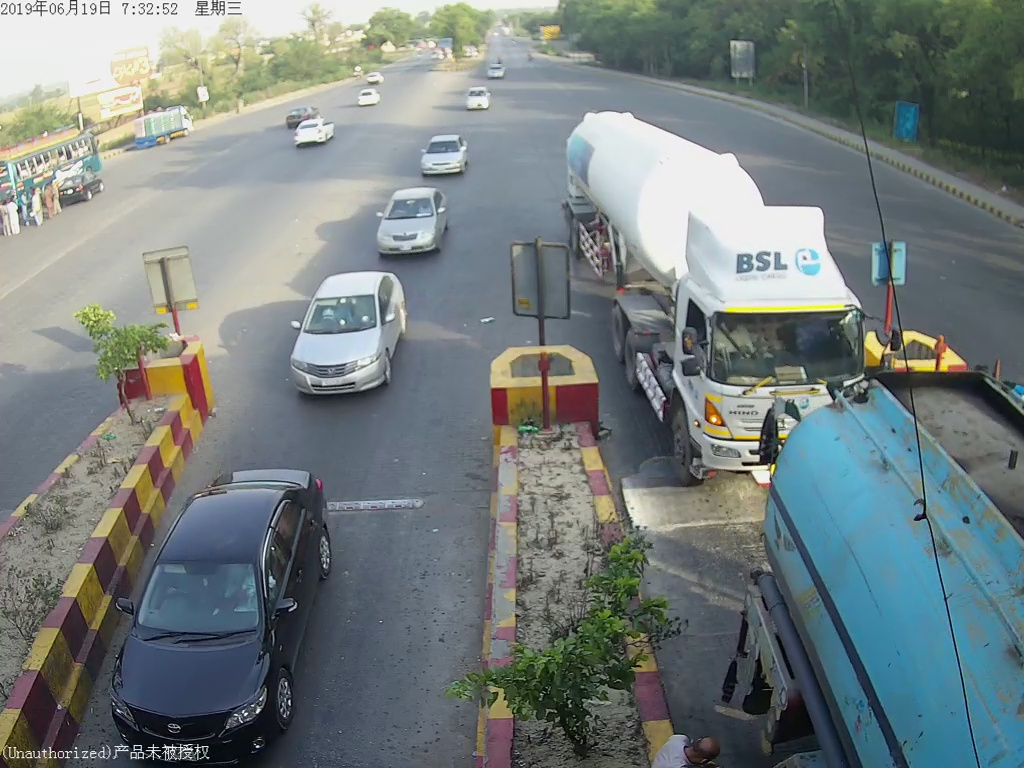Cat-1: (117, 476, 322, 739), (282, 276, 426, 405), (366, 183, 449, 254), (415, 127, 471, 173)
Cat-5: (588, 96, 787, 471)
